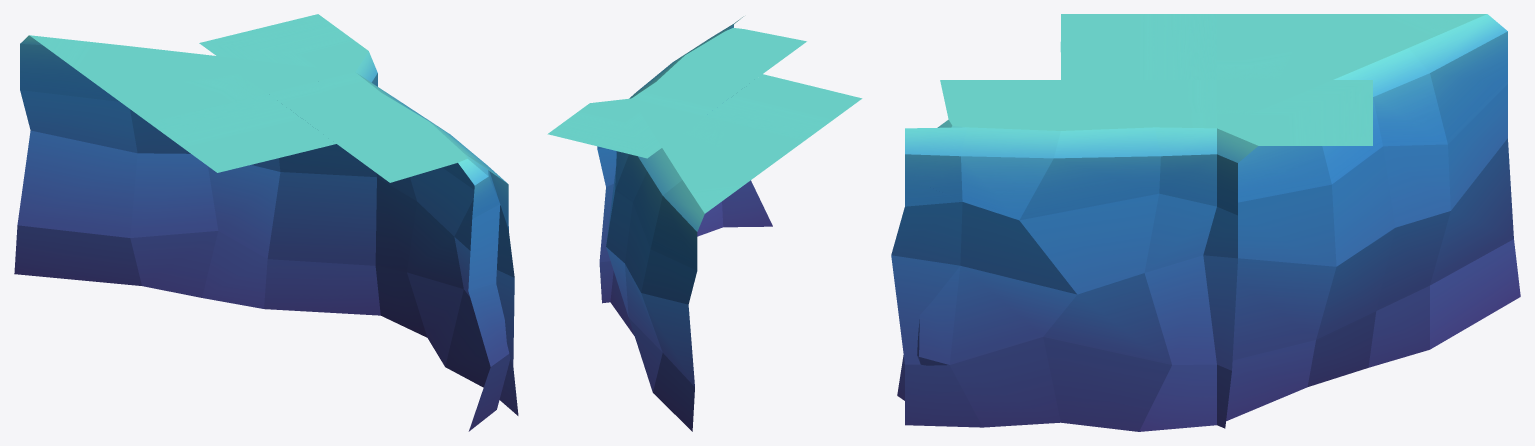
Rendered from Pieces.fbx.
The picture shows the model from 3 angles, left to right: view 1: azimuth 30°, elevation 25°; view 2: azimuth 150°, elevation 25°; view 3: azimuth 270°, elevation 25°; orthographic projection. The views are drawn at different scales.
Visible parts, largest first — view 1: Diagonal, Side, DiagonalCornerTop, TopNoWalls, OuterCorner, TopSide, TopInnerCorner, DiagonalTop, SideSmallRight, TopOuterCorner, SideSmallLeft; view 2: Diagonal, DiagonalCornerTop, TopNoWalls, TopSide, TopInnerCorner, DiagonalTop, TopOuterCorner, OuterCorner, InnerCorner; view 3: Diagonal, Side, SideSmallRight, SideSmallLeft, TopNoWalls, DiagonalCornerTop, DiagonalTop, TopSide, TopInnerCorner, InnerCorner, TopOuterCorner, OuterCorner.
Boxes of the visible parts, box(x1,y1,x2,y2) form: Diagonal: box(14, 35, 380, 315); Side: box(382, 93, 490, 387); DiagonalCornerTop: box(29, 35, 354, 114); TopNoWalls: box(149, 93, 336, 172); OuterCorner: box(458, 153, 510, 431); TopSide: box(268, 72, 428, 143); TopInnerCorner: box(199, 14, 368, 71); DiagonalTop: box(31, 35, 266, 122); SideSmallRight: box(357, 73, 427, 337); TopOuterCorner: box(337, 121, 467, 182); SideSmallLeft: box(465, 154, 518, 415); Diagonal: box(606, 148, 704, 431); DiagonalCornerTop: box(632, 98, 786, 213); TopNoWalls: box(705, 74, 862, 140); TopSide: box(632, 55, 762, 116); TopInnerCorner: box(547, 98, 661, 158); DiagonalTop: box(683, 116, 804, 211); TopOuterCorner: box(685, 27, 806, 73); OuterCorner: box(697, 180, 772, 236); InnerCorner: box(597, 146, 616, 303); Diagonal: box(1226, 14, 1520, 421); Side: box(949, 127, 1171, 431); SideSmallRight: box(1139, 127, 1216, 431); SideSmallLeft: box(891, 127, 982, 427); TopNoWalls: box(1060, 14, 1216, 79); DiagonalCornerTop: box(1217, 14, 1486, 127); DiagonalTop: box(1217, 14, 1485, 79); TopSide: box(1061, 80, 1216, 130); TopInnerCorner: box(1217, 80, 1372, 145); InnerCorner: box(1203, 128, 1257, 428); TopOuterCorner: box(940, 80, 1060, 130); OuterCorner: box(897, 119, 964, 400).
Size of the model in its own units: 615 by 610 by 1210.
